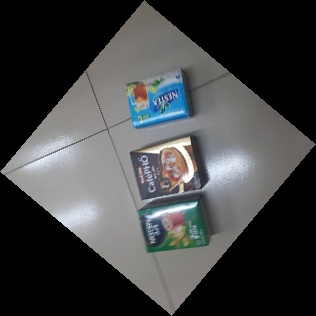CF pho: (128, 135, 205, 200)
Nes Rang: (136, 199, 214, 253)
Nestea: (123, 67, 193, 128)
